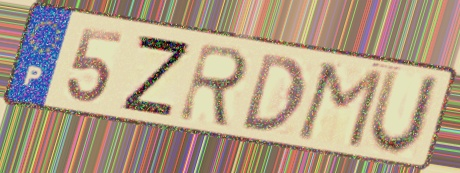5: (64, 24, 127, 105)
D: (239, 50, 309, 135)
M: (292, 60, 388, 152)
R: (174, 40, 253, 131)
U: (364, 66, 445, 159)
Z: (119, 31, 194, 120)
